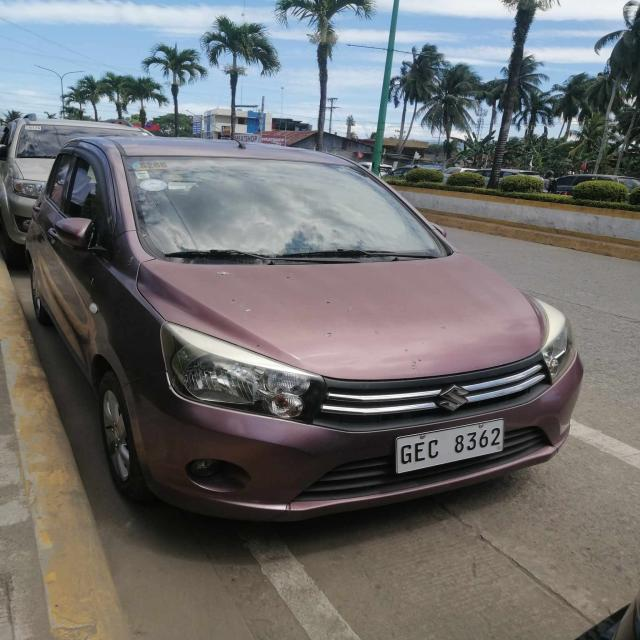license-plate: (395, 416, 506, 476)
